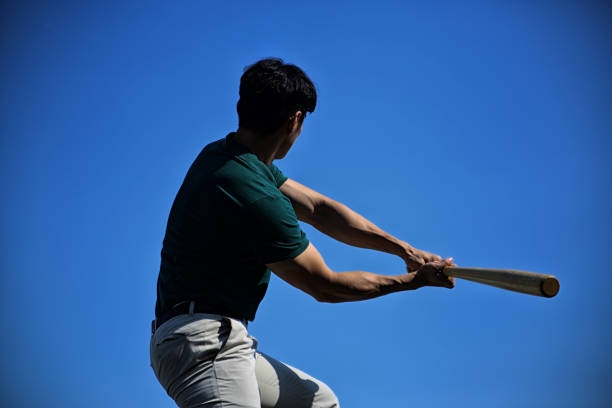bita: (426, 259, 563, 298)
